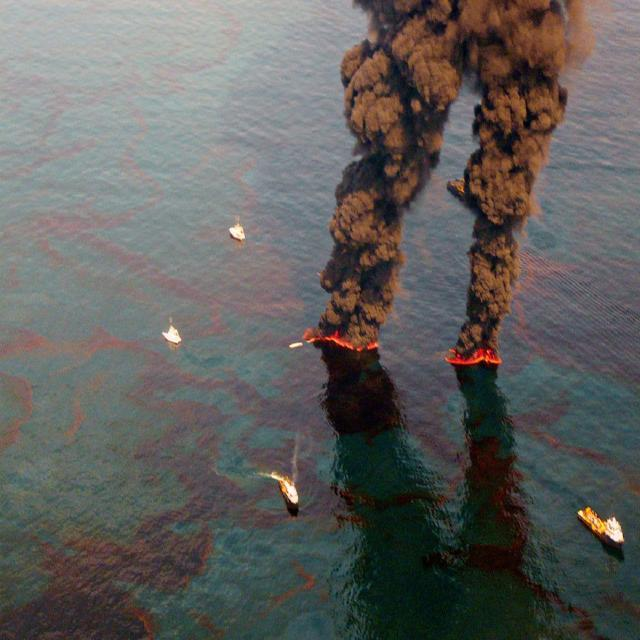truecolor: (0, 401, 268, 638), (165, 358, 336, 519), (318, 344, 404, 439)
